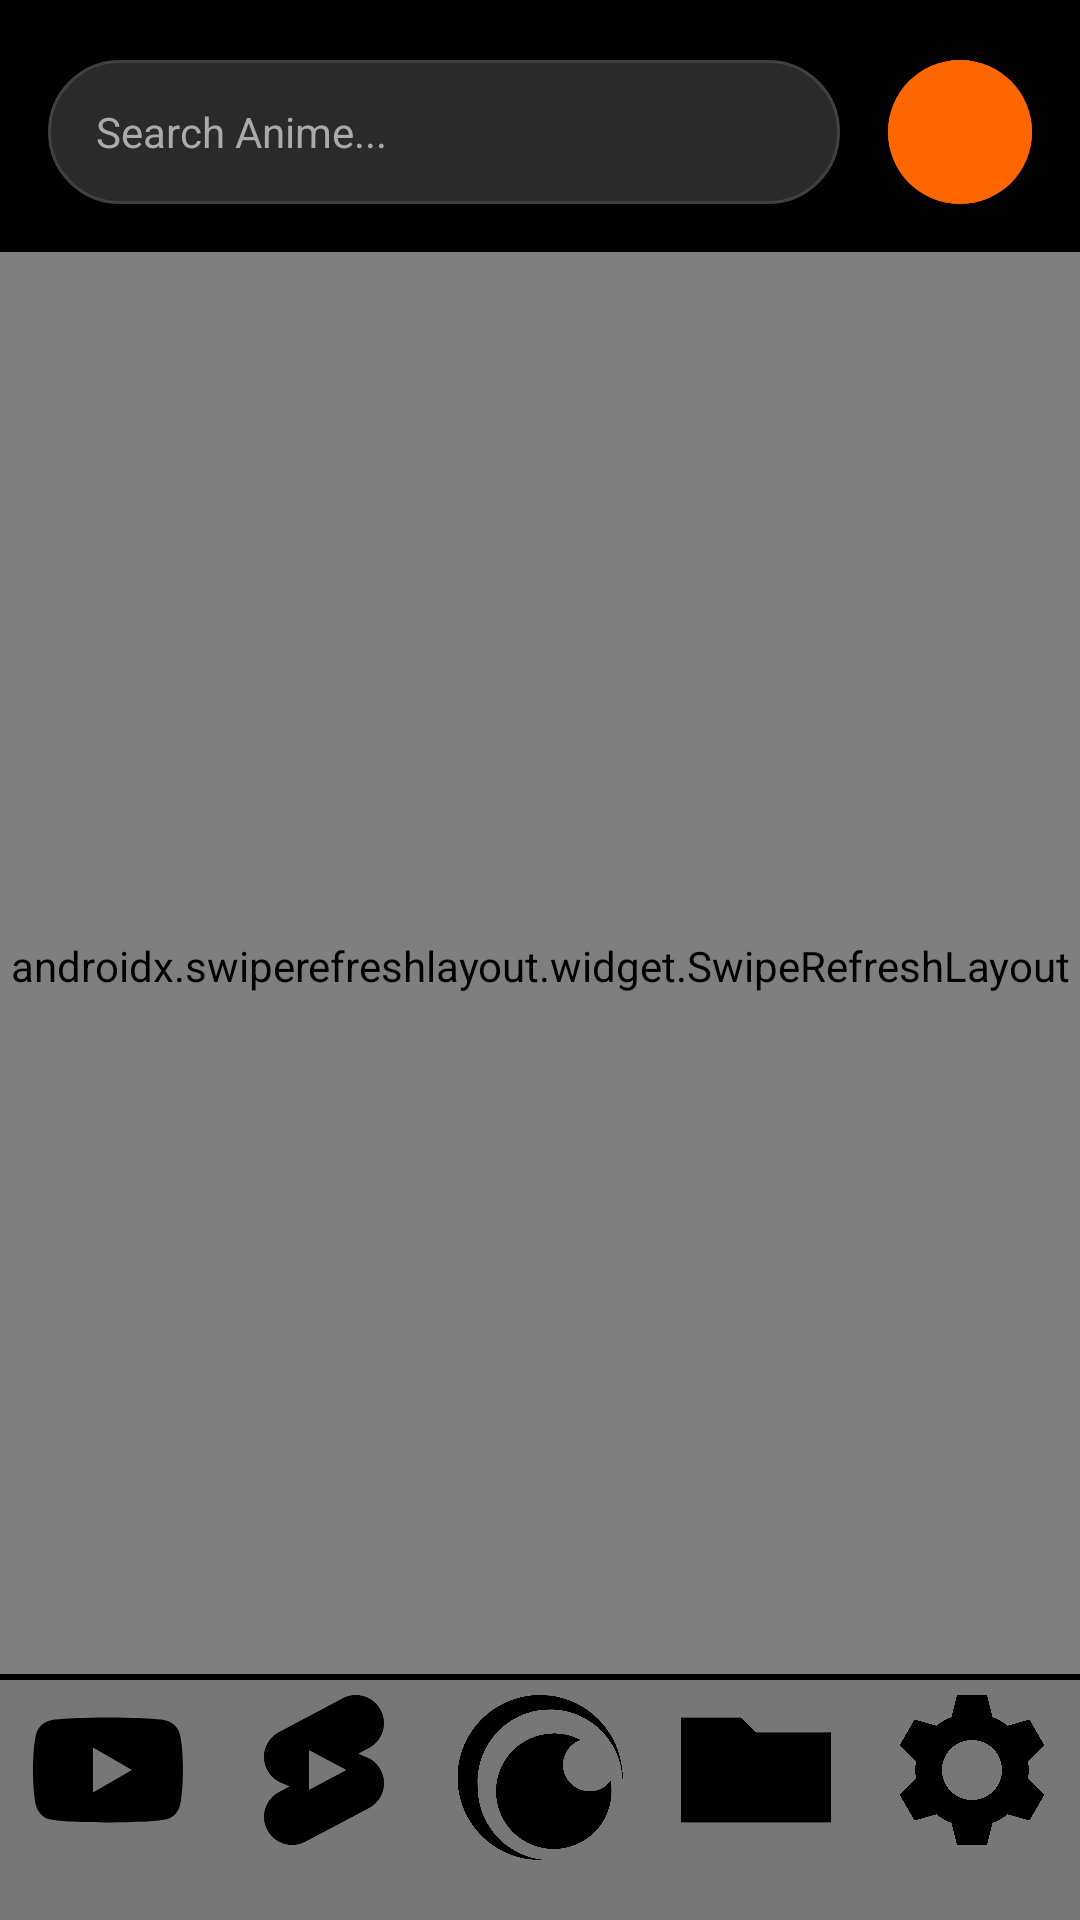

Where icons sit on this 1080*1920 app screen, as (x1, y1, x2, y2):
Downloads: (681, 1717, 831, 1823)
Settings: (900, 1695, 1044, 1845)
